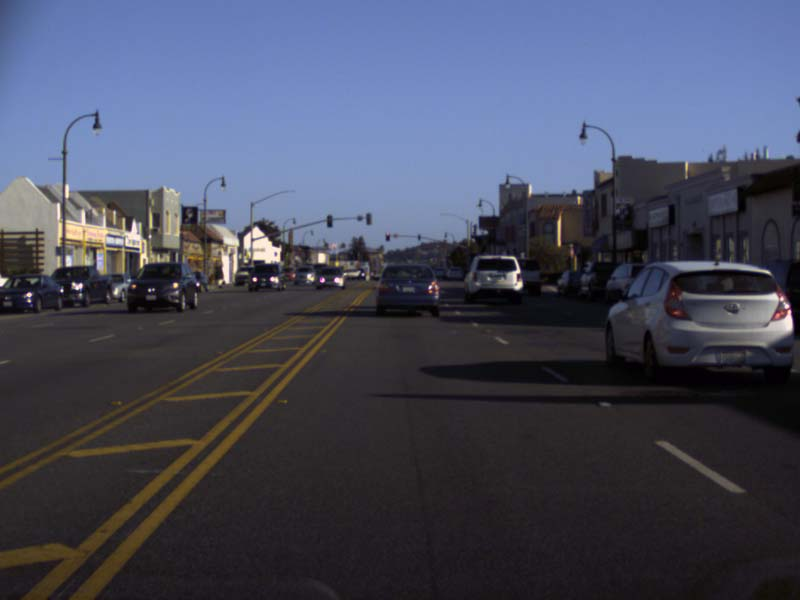Green: (481, 247, 485, 254), (417, 234, 420, 239)
Red: (385, 232, 389, 240)
